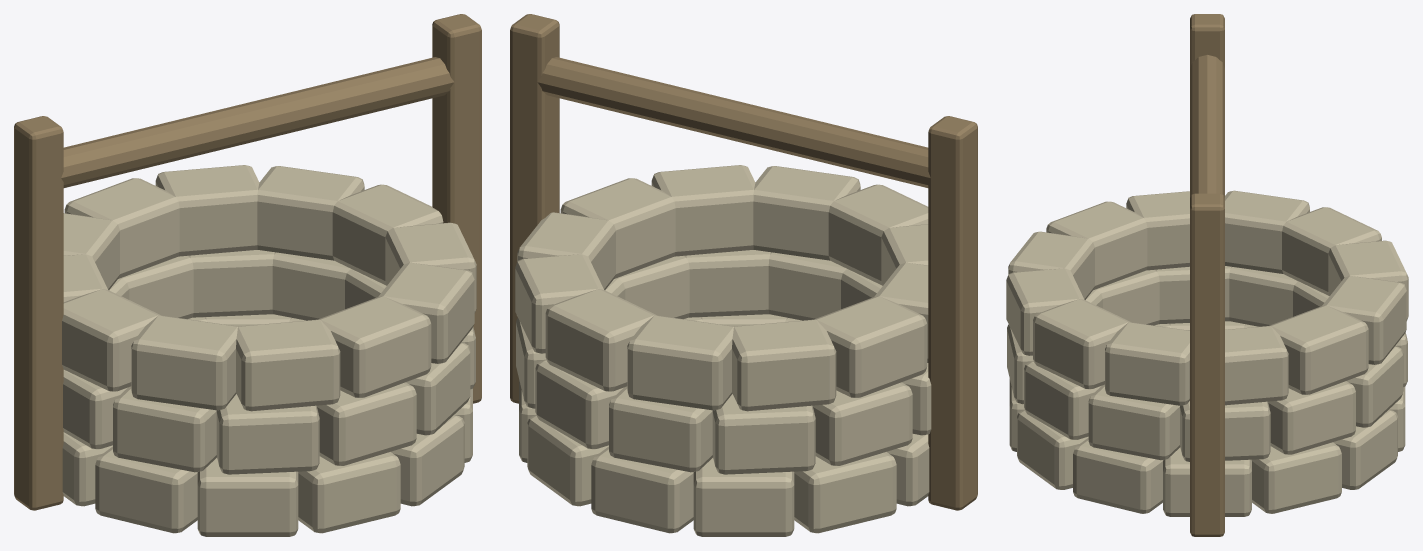
File: Abandoned_Well_Barren.glb
The picture shows the model from 3 angles, left to right: view 1: azimuth 30°, elevation 25°; view 2: azimuth 150°, elevation 25°; view 3: azimuth 270°, elevation 25°; orthographic projection. The views are drawn at different scales.
Parts seen in each view (by area): view 1: Structure; view 2: Structure; view 3: Structure.
Boxes of the visible parts, x1,y1,x2,y2 form: Structure: [14, 14, 481, 536]; Structure: [510, 14, 977, 536]; Structure: [1006, 14, 1408, 536].
Bounding box in the file's own units: 2.38 × 1.9 × 2.08.
